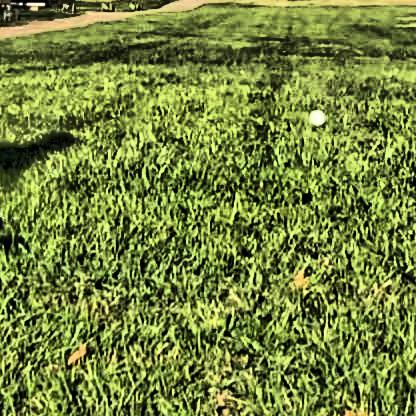golfball: (306, 106, 321, 121)
